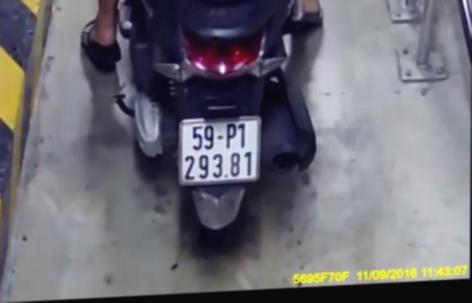License_Plate: (171, 108, 266, 192)
